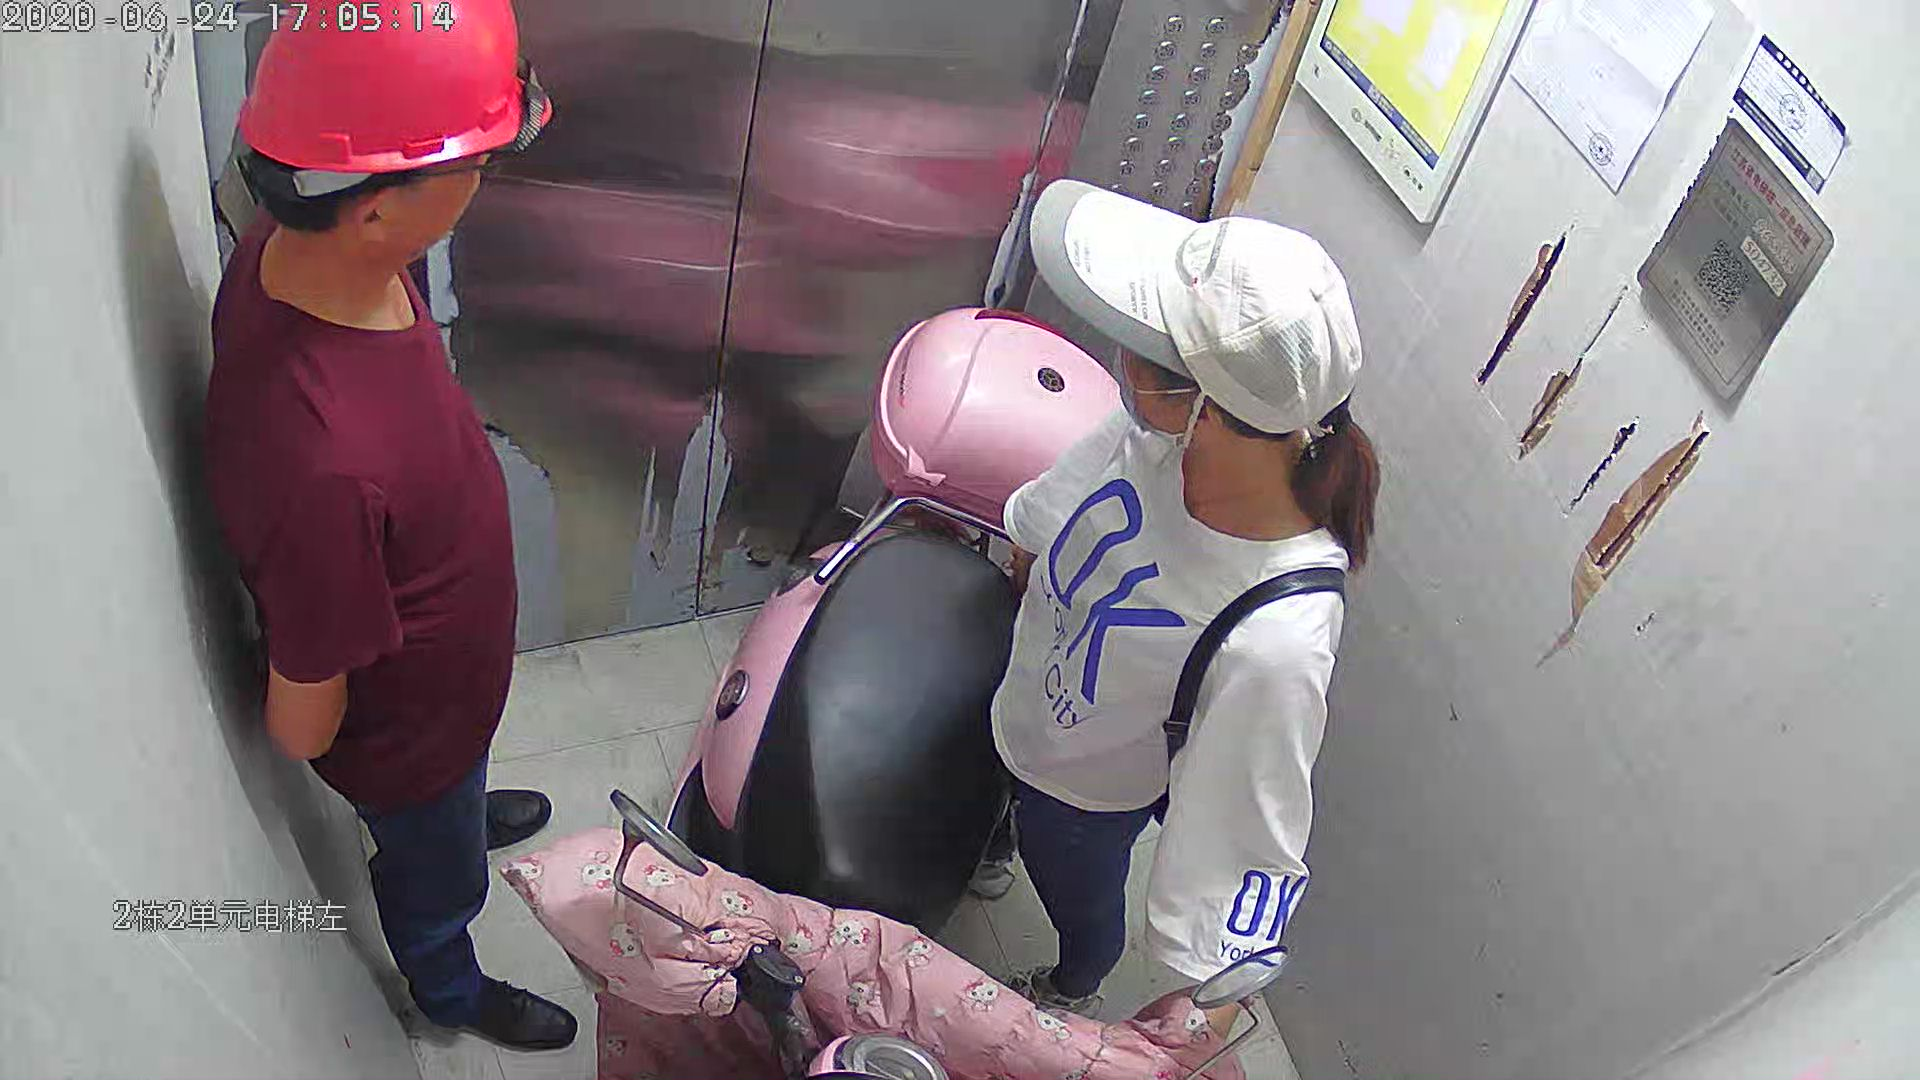Electric-bicycle: (615, 302, 1139, 1077)
